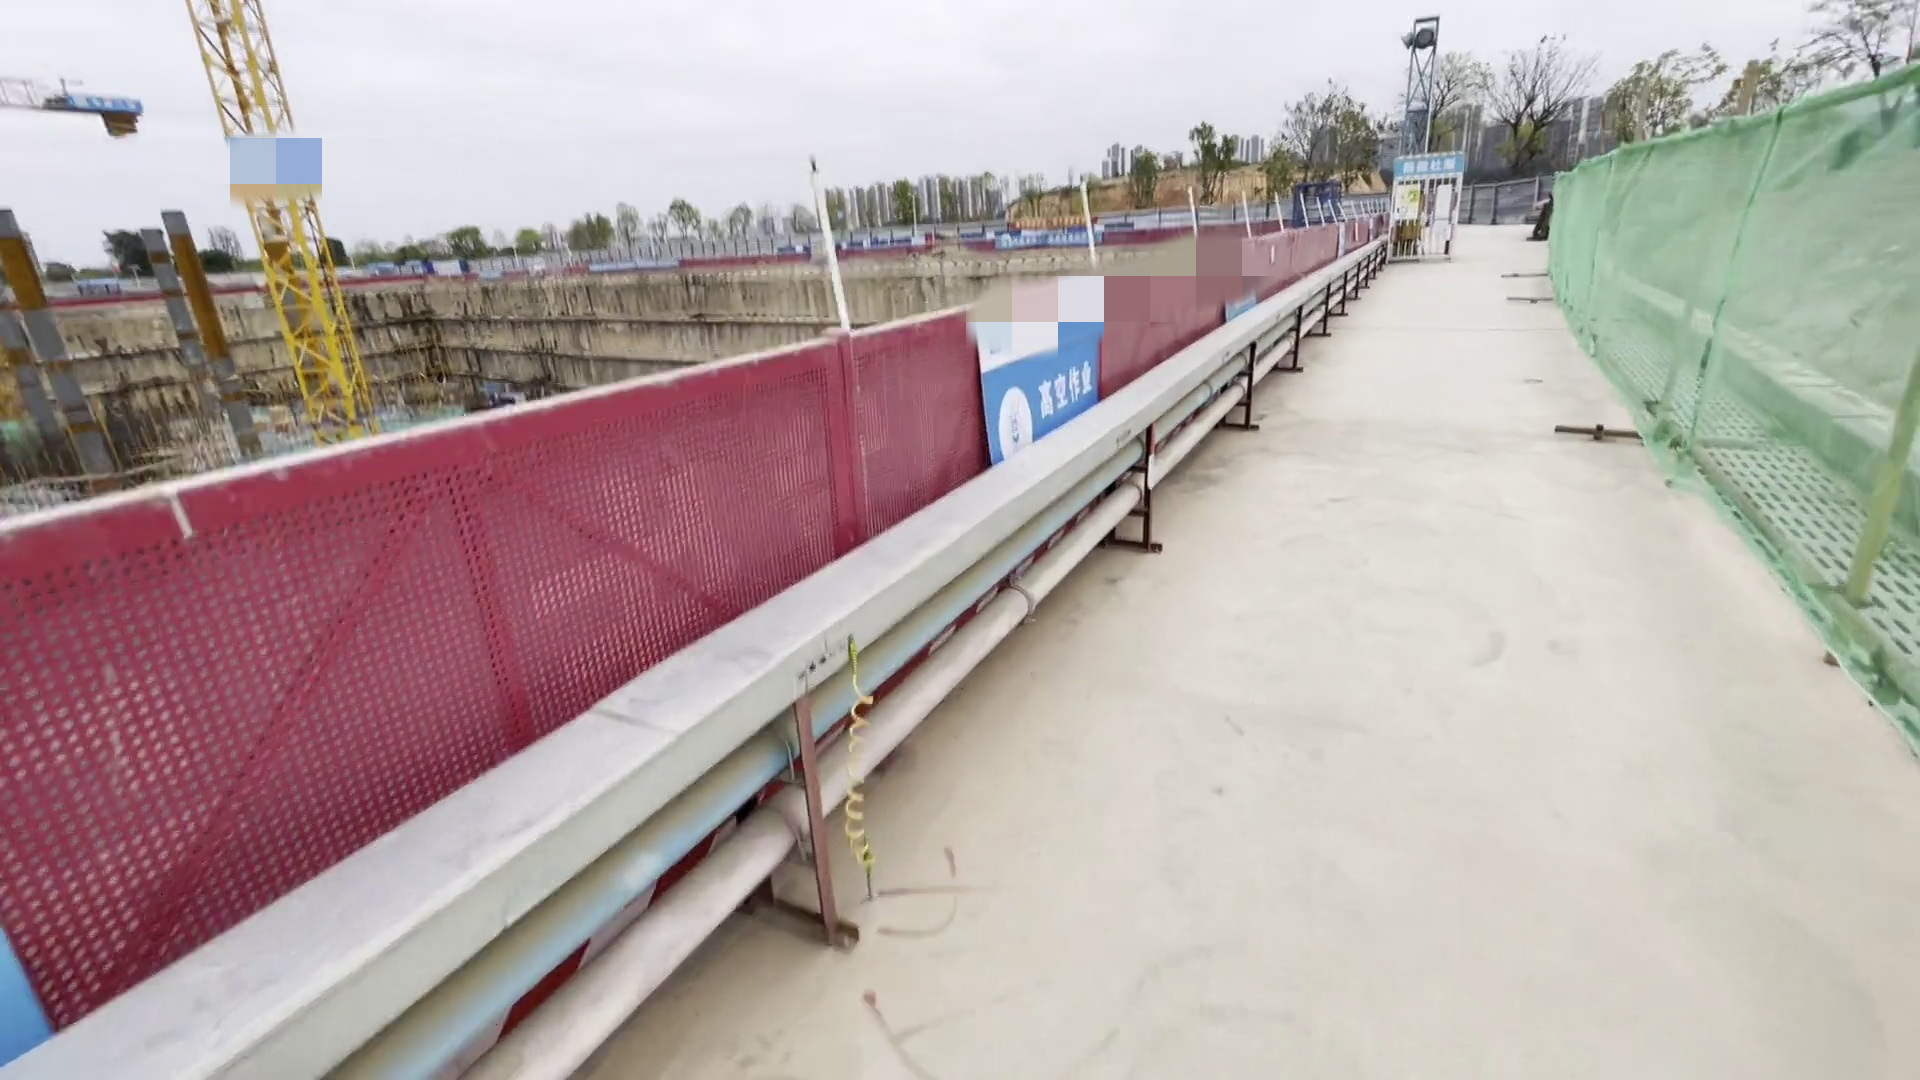fence: (1, 208, 1385, 1080)
slogan: (1025, 364, 1117, 433), (996, 227, 1118, 248), (1403, 152, 1458, 179), (1005, 212, 1108, 220)
